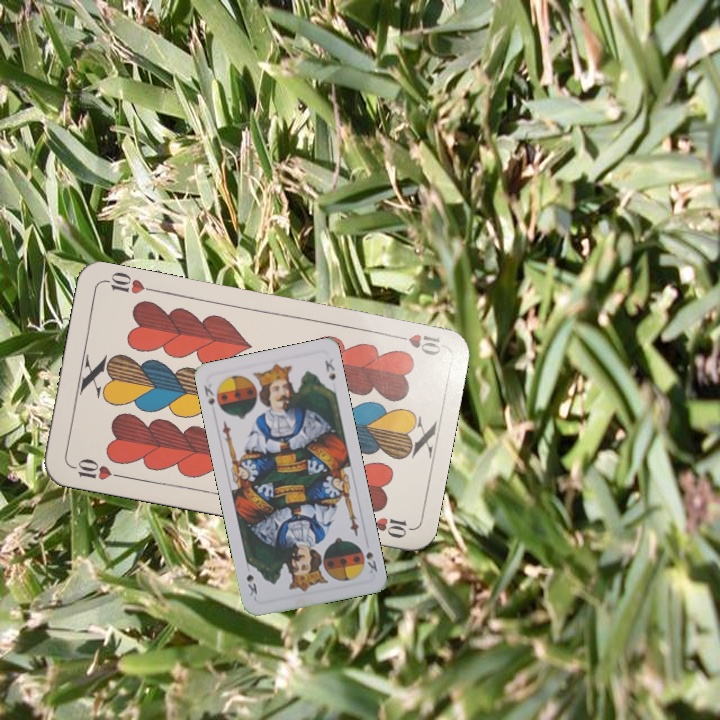H10: (67, 454, 126, 483), (387, 330, 444, 359)
SK: (362, 547, 380, 576), (200, 379, 217, 409)
